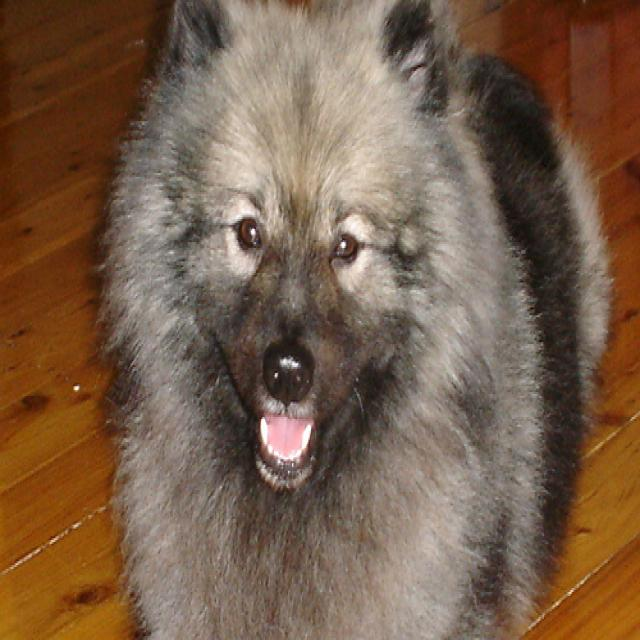dog-keeshond: (95, 2, 607, 636)
